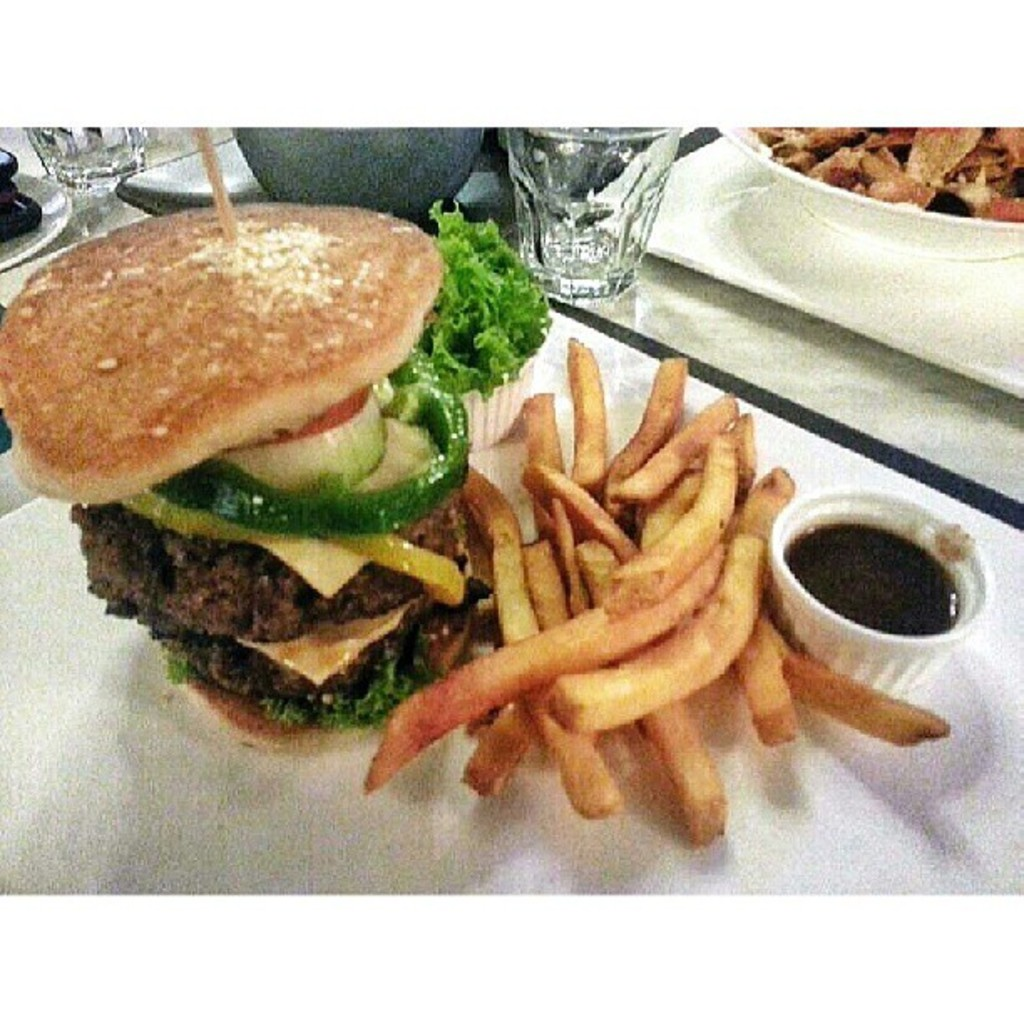French fries: (354, 317, 958, 861)
